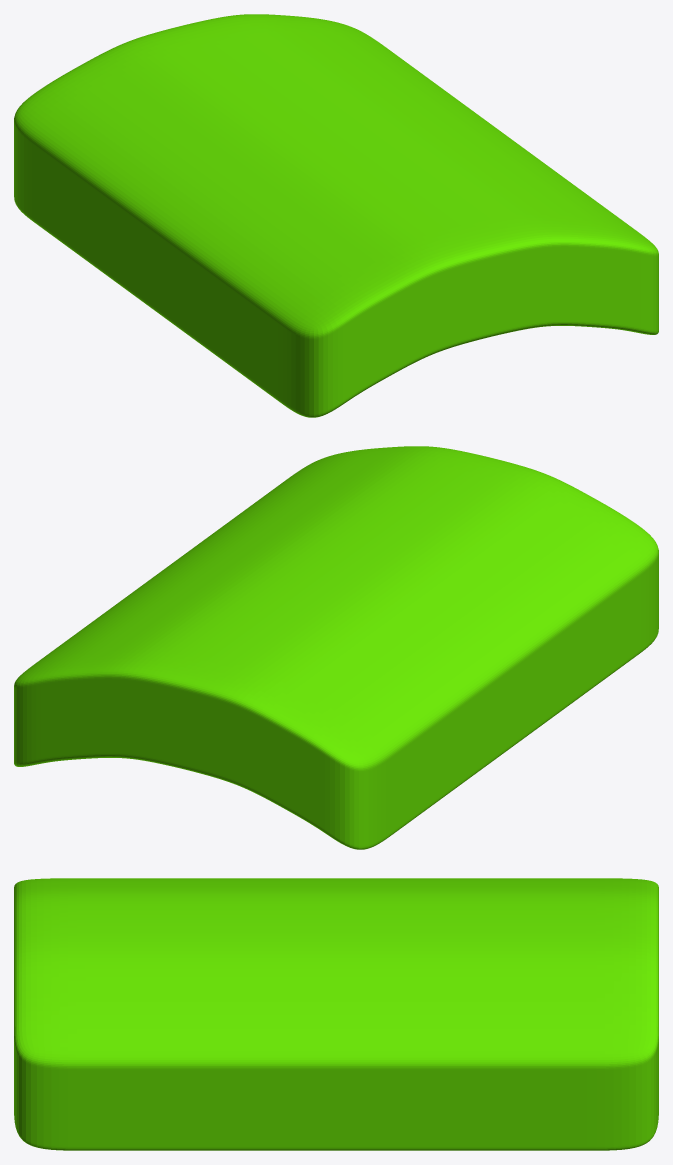
File: Jembatan.fbx
3 renders of one model, top to bottom at view 1: azimuth 30°, elevation 25°; view 2: azimuth 150°, elevation 25°; view 3: azimuth 270°, elevation 25°, orthographic. The views are drawn at different scales.
Parts seen in each view (by area): view 1: Cube.003; view 2: Cube.003; view 3: Cube.003.
Part boxes in pixels (bbox=[...]): Cube.003: bbox=[14, 14, 658, 417]; Cube.003: bbox=[14, 446, 658, 849]; Cube.003: bbox=[14, 878, 658, 1150].
Bounding box in the file's own units: 1596 × 581 × 2403.
